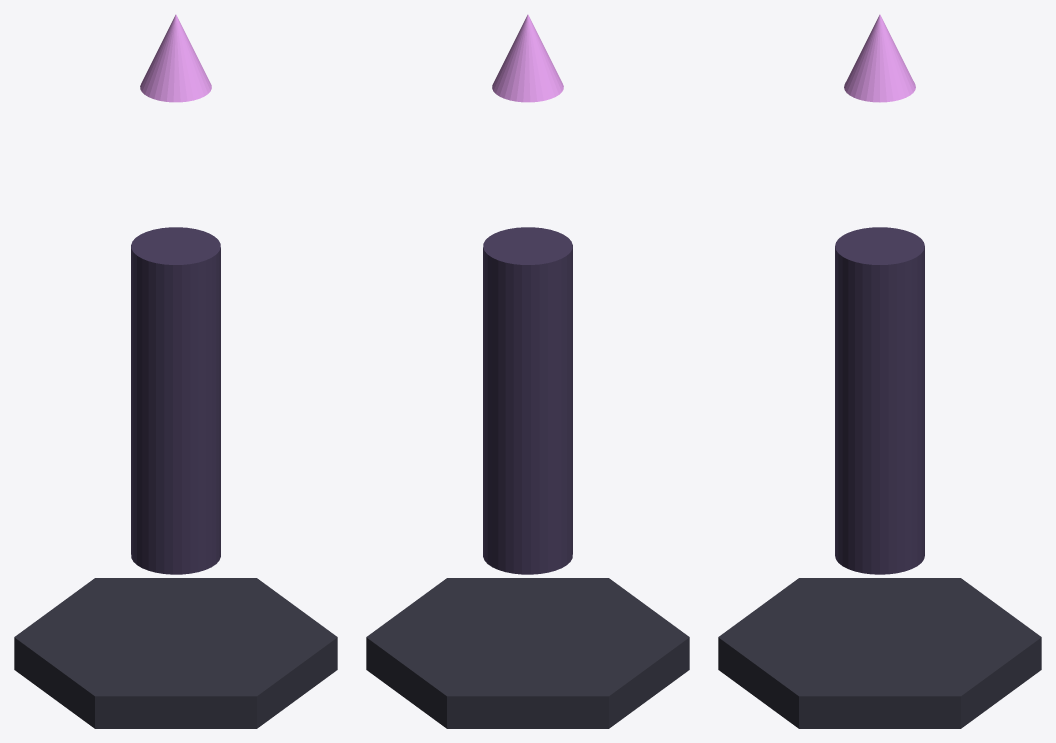
The model's file is CH_StasisProjectorBuilding.fbx.
The picture shows the model from 3 angles, left to right: view 1: azimuth 30°, elevation 25°; view 2: azimuth 150°, elevation 25°; view 3: azimuth 270°, elevation 25°; orthographic projection.
Visible parts, largest first — view 1: Cylinder, Cylinder.001, Cone; view 2: Cylinder, Cylinder.001, Cone; view 3: Cylinder, Cylinder.001, Cone.
Part boxes in pixels (x1,y1,x2,y2): Cylinder: (14,578,337,728); Cylinder.001: (131,227,220,574); Cone: (140,14,211,102); Cylinder: (366,578,689,728); Cylinder.001: (483,227,572,574); Cone: (492,14,563,102); Cylinder: (718,578,1041,728); Cylinder.001: (835,227,924,574); Cone: (844,14,915,102).
Size of the model in its own units: 312 by 805 by 360.
